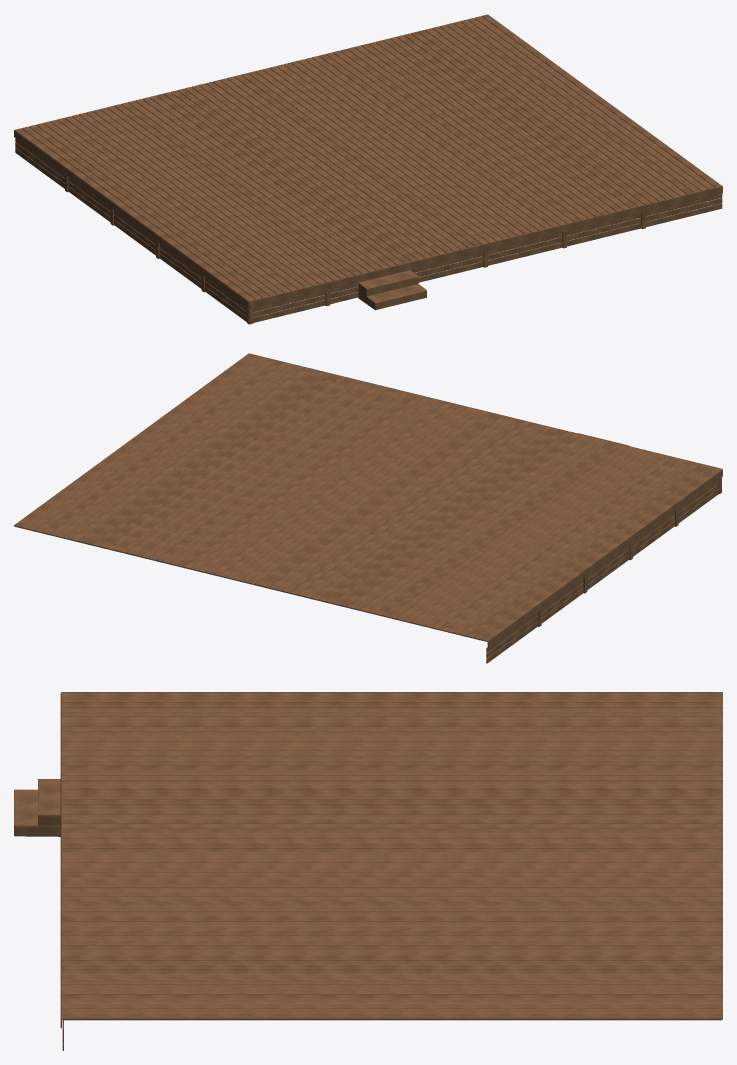
The model's file is deck.glb.
3 views of the same model, one above another, from view 1: azimuth 30°, elevation 25°; view 2: azimuth 150°, elevation 25°; view 3: azimuth 270°, elevation 25° (orthographic). The views are drawn at different scales.
Visible parts, largest first — view 1: deck; view 2: deck; view 3: deck.
Boxes of the visible parts, x1,y1,x2,y2 form: deck: (14, 14, 722, 324); deck: (14, 353, 722, 663); deck: (14, 692, 722, 1050).
Size of the model in its own units: 42.06 by 2.02 by 38.6.
3 materials, 2 textured.
